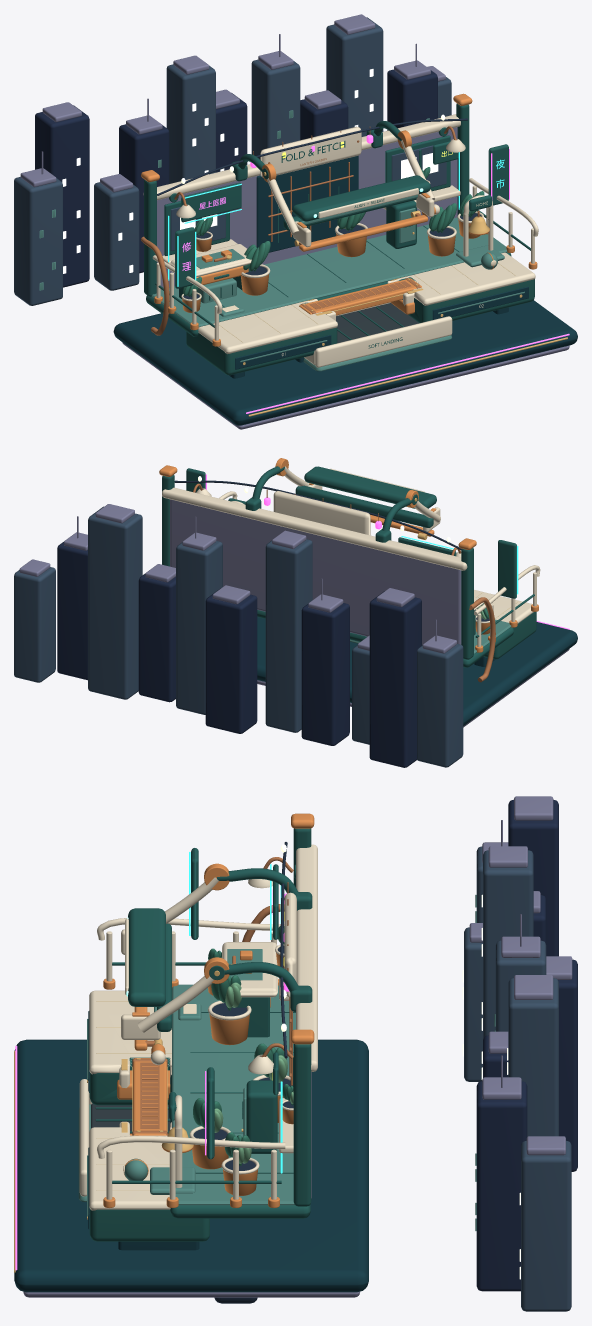
File: 05-lantern-garden-assembled.glb
The picture shows the model from 3 angles, top to bottom: view 1: azimuth 30°, elevation 25°; view 2: azimuth 150°, elevation 25°; view 3: azimuth 270°, elevation 25°; orthographic projection. The views are drawn at different scales.
Parts seen in each view (by area): view 1: distant_city_mesh, rooftop_base_mesh, workshop_frame_mesh, floor_left_mesh, floor_right_mesh, neon_signage_mesh, recovery_tray_mesh, upper_chute_mesh, planters_mesh, service_cables_mesh, roof_rails_mesh, repair_bench_mesh (+4 smaller); view 2: distant_city_mesh, workshop_frame_mesh, rooftop_base_mesh, upper_chute_mesh, neon_signage_mesh, floor_left_mesh, service_cables_mesh, roof_rails_mesh; view 3: rooftop_base_mesh, distant_city_mesh, workshop_frame_mesh, floor_right_mesh, upper_chute_mesh, planters_mesh, roof_rails_mesh, floor_left_mesh, neon_signage_mesh, service_cables_mesh, repair_bench_mesh, bridge_beam_mesh (+4 smaller).
Boxes of the visible parts, x1,y1,x2,y2 form: distant_city_mesh: (14, 14, 451, 305); rooftop_base_mesh: (113, 217, 577, 429); workshop_frame_mesh: (141, 93, 472, 296); floor_left_mesh: (186, 301, 337, 378); floor_right_mesh: (396, 252, 535, 323); neon_signage_mesh: (168, 127, 569, 413); recovery_tray_mesh: (303, 302, 452, 371); upper_chute_mesh: (262, 130, 434, 247); planters_mesh: (181, 167, 484, 312); service_cables_mesh: (141, 114, 467, 335); roof_rails_mesh: (152, 178, 538, 346); repair_bench_mesh: (170, 244, 251, 303); distant_city_mesh: (14, 504, 463, 767); workshop_frame_mesh: (159, 465, 476, 659); rooftop_base_mesh: (257, 610, 577, 727); upper_chute_mesh: (275, 458, 440, 531); neon_signage_mesh: (186, 468, 569, 629); floor_left_mesh: (474, 590, 536, 666); service_cables_mesh: (174, 476, 495, 682); roof_rails_mesh: (219, 491, 540, 652); rooftop_base_mesh: (14, 984, 368, 1303); distant_city_mesh: (462, 796, 577, 1311); workshop_frame_mesh: (217, 813, 317, 1206); floor_right_mesh: (87, 1127, 209, 1250); upper_chute_mesh: (121, 863, 229, 1039); planters_mesh: (189, 926, 293, 1195); roof_rails_mesh: (97, 918, 285, 1207); floor_left_mesh: (87, 990, 171, 1105); neon_signage_mesh: (15, 848, 289, 1270); service_cables_mesh: (241, 842, 287, 1153); repair_bench_mesh: (222, 942, 277, 1037); bridge_beam_mesh: (132, 1058, 167, 1135).
Size of the model in its own units: 11.31 by 5.6 by 8.91.
